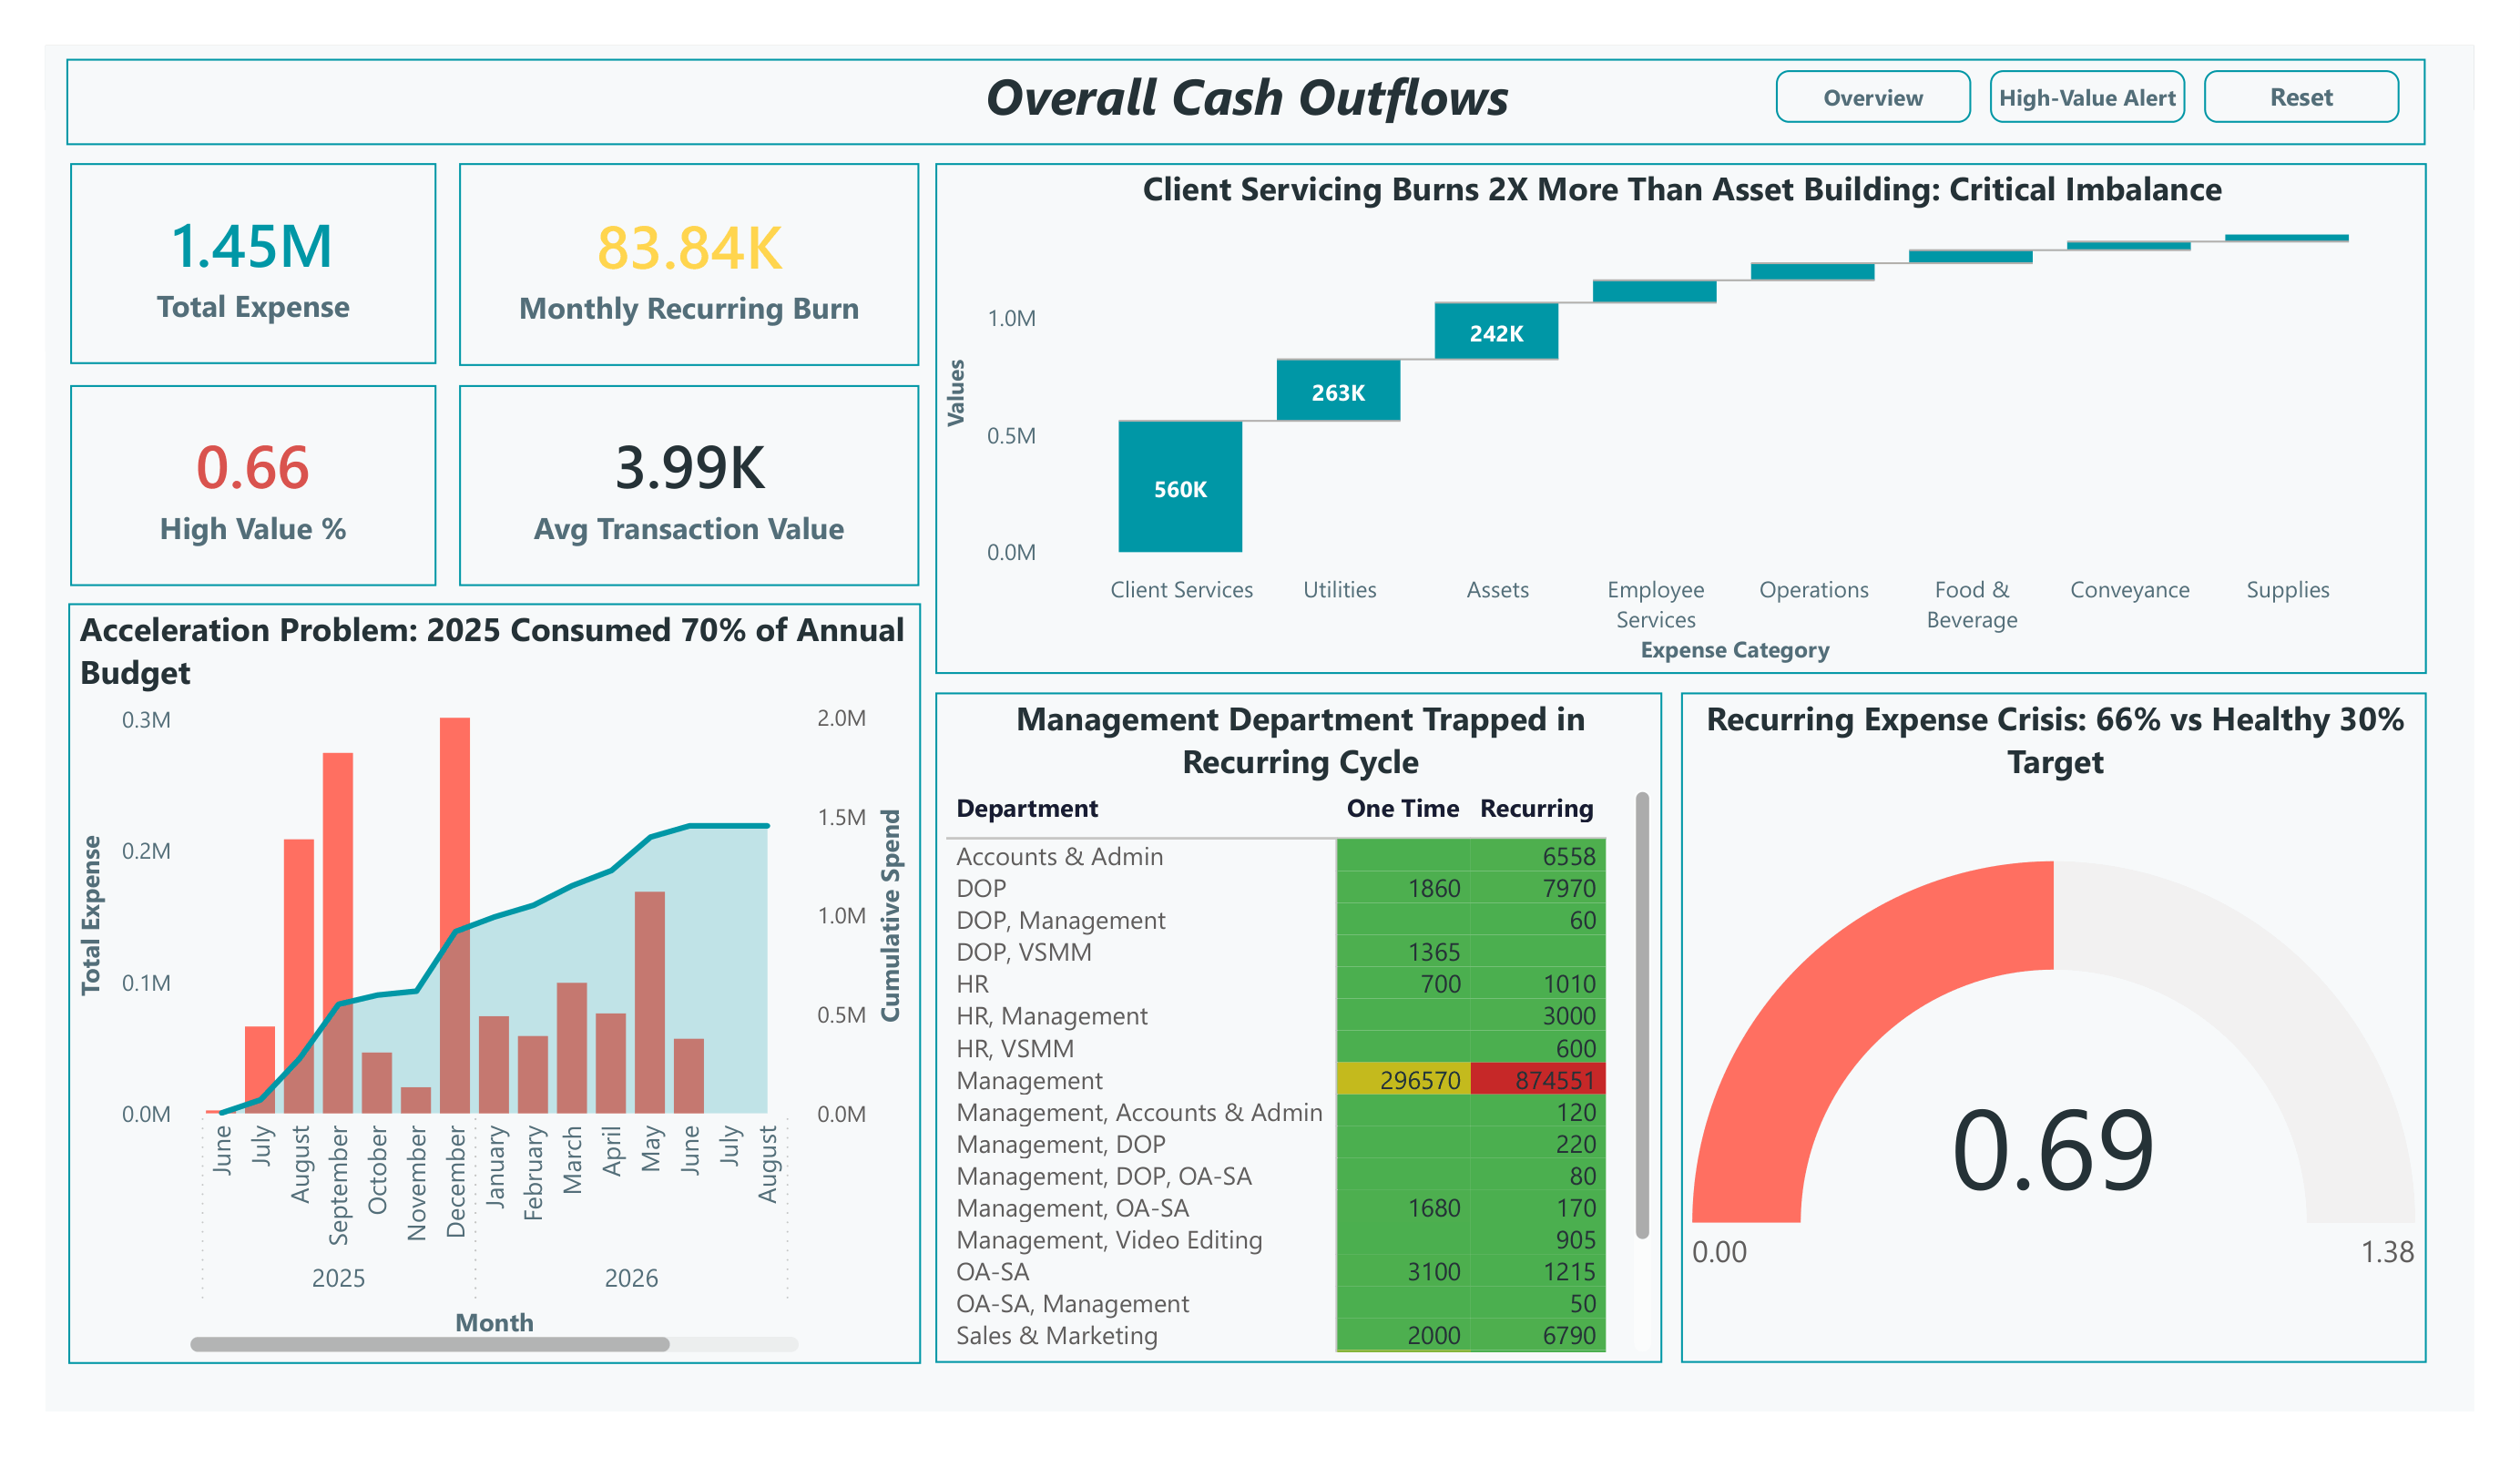

Layout of this report page (visuals, bound fields, positions):
{"tool":"powerbi","page":{"name":"Executive Dashboard","canvas":[1280,720],"ordinal":0},"visuals":[{"type":"shape","title":"Overall Cash Outflows","box":[11.4,7.1,1255.7,45.7],"z":0},{"type":"cardVisual","fields":{"Data":["DAX Table.Total Expense"]},"box":[13.2,62.7,195,106.7],"z":1000},{"type":"cardVisual","fields":{"Data":["DAX Table.Monthly Recurring Burn"]},"box":[219.9,62.7,245,108.3],"z":2000},{"type":"cardVisual","title":"Outlier Alert: 66% of Spend from Just a Few Transactions","fields":{"Data":["DAX Table.High Value %"]},"box":[13.2,181,195,106.7],"z":3000},{"type":"cardVisual","fields":{"Data":["DAX Table.Avg Transaction Value"]},"box":[219.9,181,245,106.7],"z":4000},{"type":"waterfallChart","title":"Client Servicing Burns 2X More Than Asset Building: Critical Imbalance","fields":{"Y":["Waterfall_Categories = (2).Dynamic Waterfall Value"],"Category":["December-25.Expense Category"]},"box":[473.4,62.4,793.7,272.1],"z":5000},{"type":"lineClusteredColumnComboChart","title":"Acceleration Problem: 2025 Consumed 70% of Annual Budget","fields":{"Category":["December-25.Date.Variation.Date Hierarchy.Year","December-25.Date.Variation.Date Hierarchy.Month"],"Y":["DAX Table.Total Expense"],"Y2":["DAX Table.Cumulative Spend"]},"box":[12.3,296.9,453.8,404.6],"z":6000},{"type":"gauge","title":"Recurring Expense Crisis: 66% vs Healthy 30% Target","fields":{"Y":["DAX Table.Recurring %"]},"box":[870.2,344.4,396.9,357.2],"z":7000},{"type":"pivotTable","title":"Management Department Trapped in Recurring Cycle","fields":{"Rows":["December-25.Department"],"Columns":["December-25.Expense Type"],"Values":["Sum(December-25.Amount (In BDT))"]},"box":[473.4,344.4,386.9,357.2],"z":8000},{"type":"bookmarkNavigator","box":[921.4,12.9,332.9,28.6],"z":9000}]}

Visuals, with their boxes in screenshot pixels (x1, y1, x2, y2):
"Overall Cash Outflows" shape: bbox=[61, 59, 2413, 145]
cardVisual - DAX Table.Total Expense: bbox=[64, 163, 429, 363]
cardVisual - DAX Table.Monthly Recurring Burn: bbox=[451, 163, 910, 366]
"Outlier Alert: 66% of Spend from Just a Few Transactions" cardVisual: bbox=[64, 385, 429, 585]
cardVisual - DAX Table.Avg Transaction Value: bbox=[451, 385, 910, 585]
"Client Servicing Burns 2X More Than Asset Building: Critical Imbalance" waterfallChart: bbox=[926, 163, 2413, 672]
"Acceleration Problem: 2025 Consumed 70% of Annual Budget" lineClusteredColumnComboChart: bbox=[63, 602, 913, 1360]
"Recurring Expense Crisis: 66% vs Healthy 30% Target" gauge: bbox=[1669, 691, 2413, 1360]
"Management Department Trapped in Recurring Cycle" pivotTable: bbox=[926, 691, 1650, 1360]
bookmarkNavigator: bbox=[1765, 70, 2388, 124]
